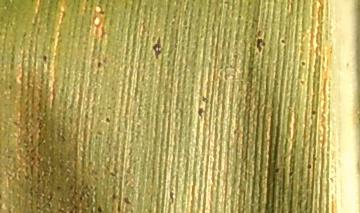tarspot: (147, 33, 168, 62), (254, 34, 267, 55), (195, 104, 208, 123), (38, 51, 50, 66), (121, 195, 133, 209), (272, 164, 284, 177), (92, 203, 107, 213), (93, 60, 104, 73), (299, 58, 310, 70), (103, 114, 113, 127), (278, 36, 289, 47), (303, 160, 313, 171), (309, 107, 318, 118), (287, 169, 296, 180)
